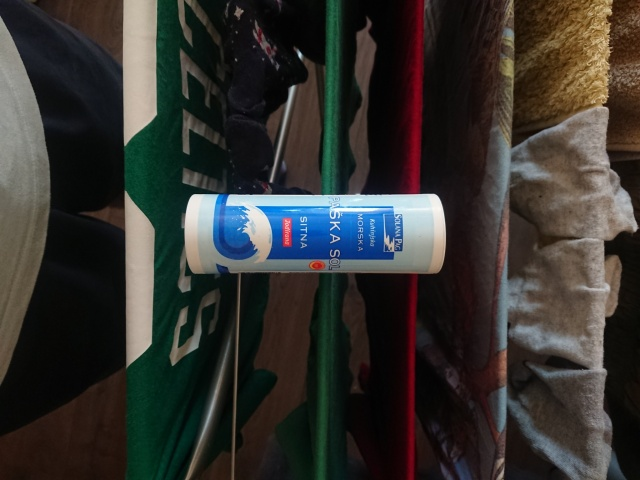Solana Pag Fine Sea Salt 250g: (182, 190, 449, 277)
